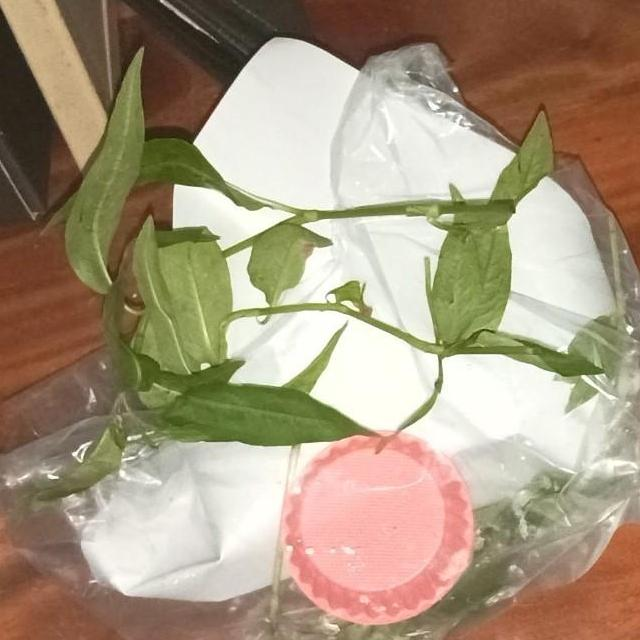rau ram: (31, 38, 609, 506)
